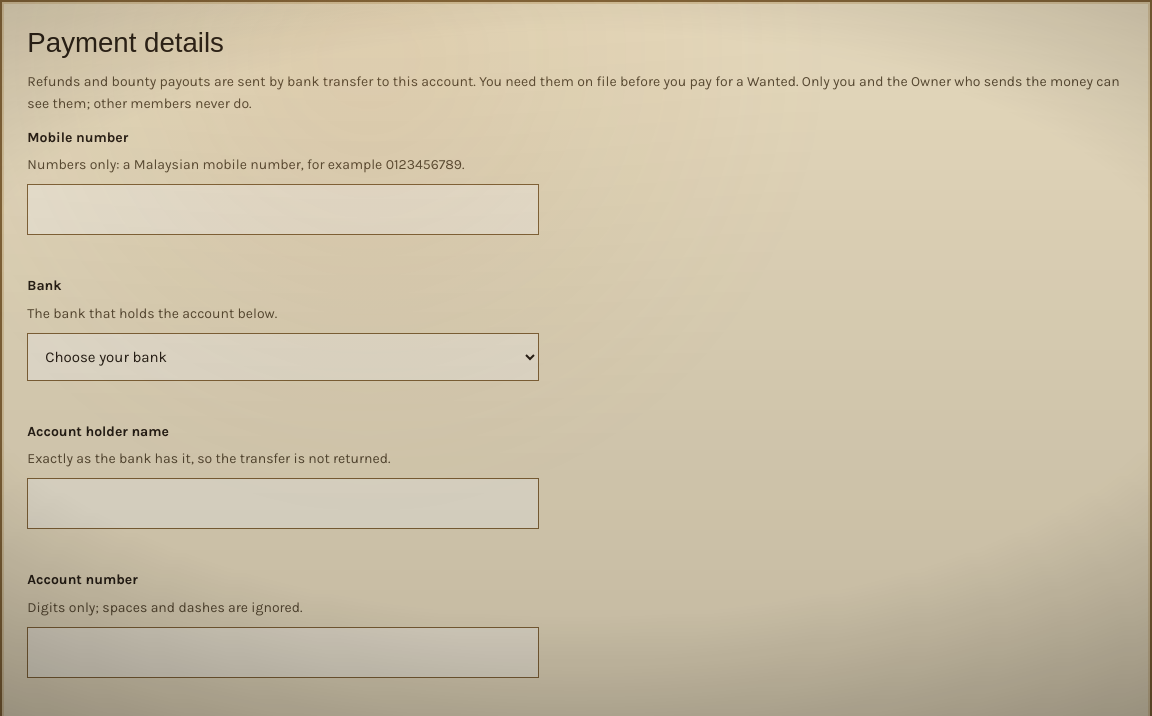
Test case: PaymentDetailsForm › refuses an account number longer than 20 digits instead of cutting it
This screenshot has width=1152, height=716.
Type "1234567890123456789012" into the field labelled "Account number" at (283, 652), box [27,626,539,678]
(page scrolled)
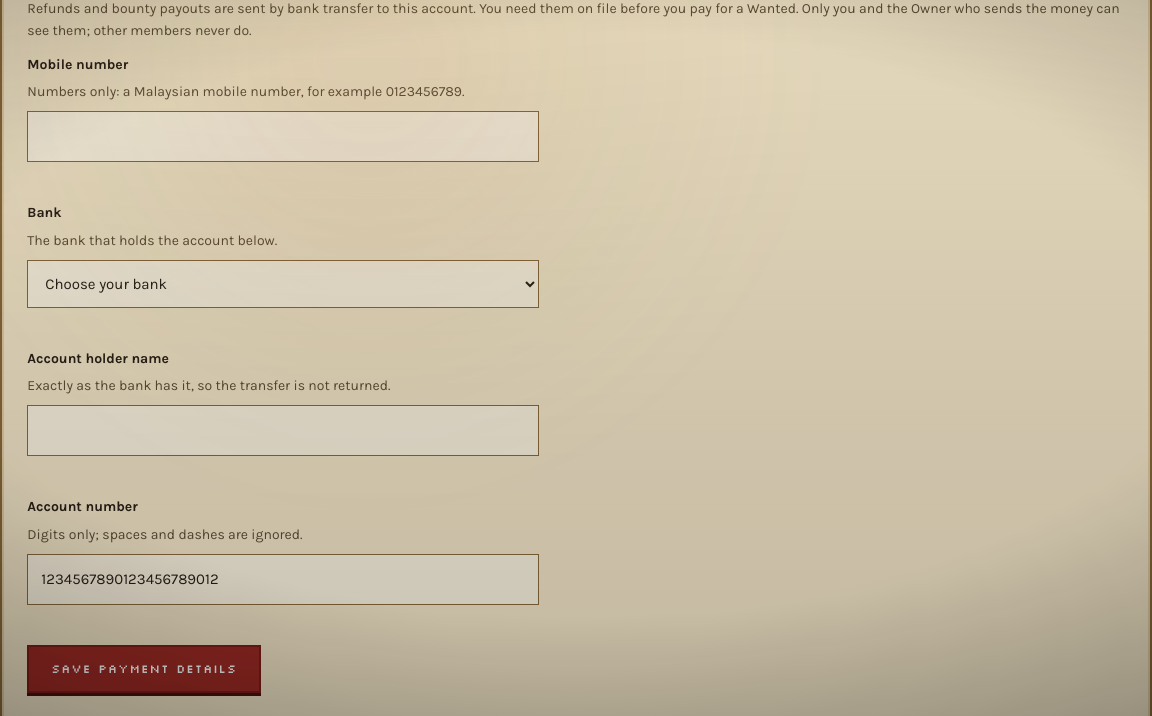
Click the button "Save payment details" at (144, 669), box [27,645,261,693]
(page scrolled)
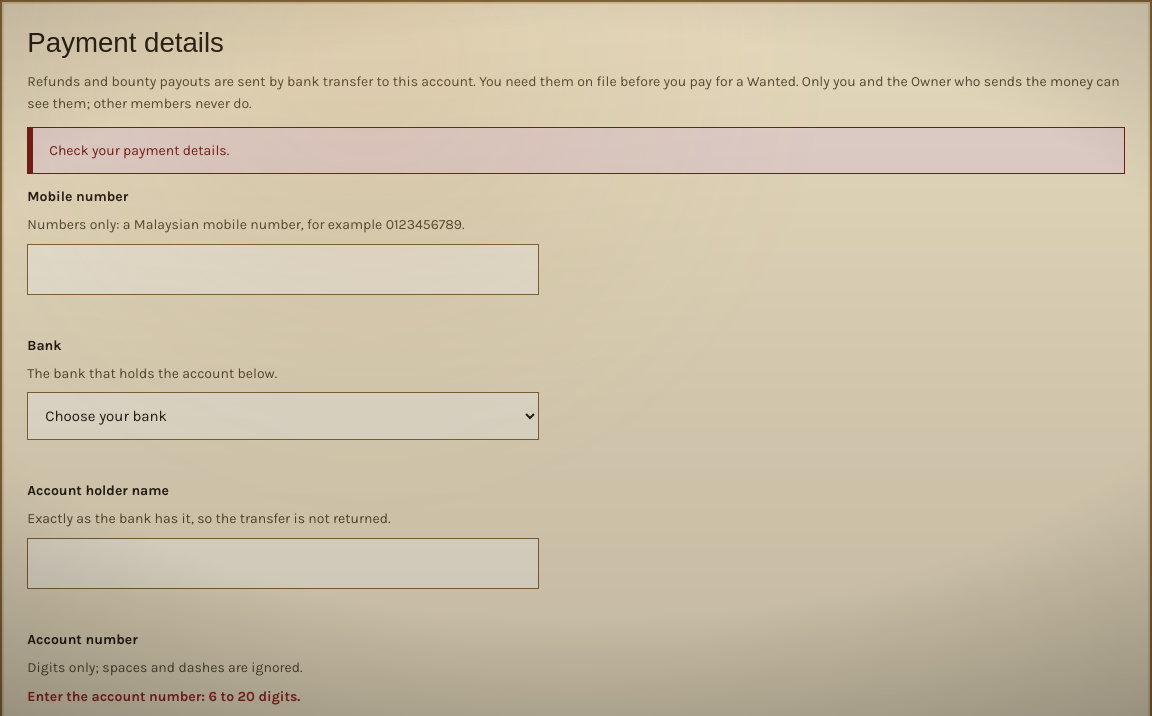
Result: the text "Enter the account number: 6 to 20 digits." is shown at [27,688,300,705]
Result: the message reads "Check your payment details." at [49,142,229,158]
